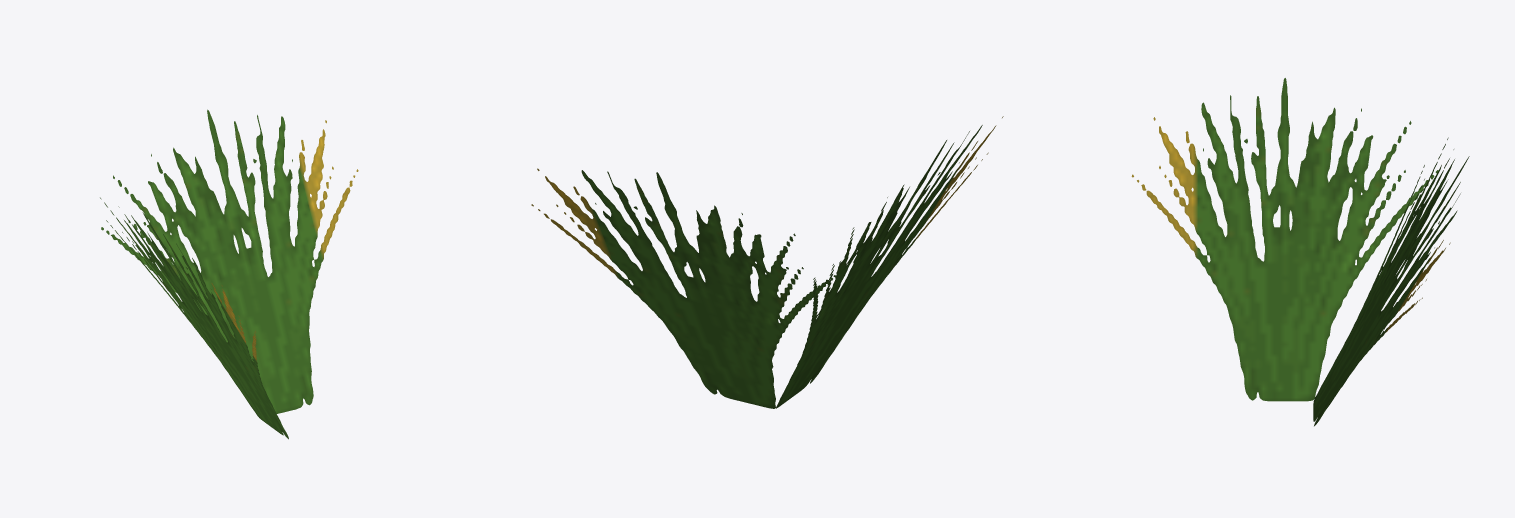
File: gras_wispy_b.glb
3 renders of one model, left to right at view 1: azimuth 30°, elevation 25°; view 2: azimuth 150°, elevation 25°; view 3: azimuth 270°, elevation 25°, orthographic. The views are drawn at different scales.
Parts seen in each view (by area): view 1: gras; view 2: gras; view 3: gras.
Boxes of the visible parts, bbox=[...] form: gras: bbox=[100, 109, 358, 439]; gras: bbox=[531, 116, 1003, 408]; gras: bbox=[1131, 78, 1469, 426].
Size of the model in its own units: 0.6025 by 0.55 by 0.6025.
Materials: 1 (1 with a texture image).
